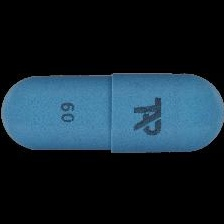55154-5154: (0, 0, 224, 224)
